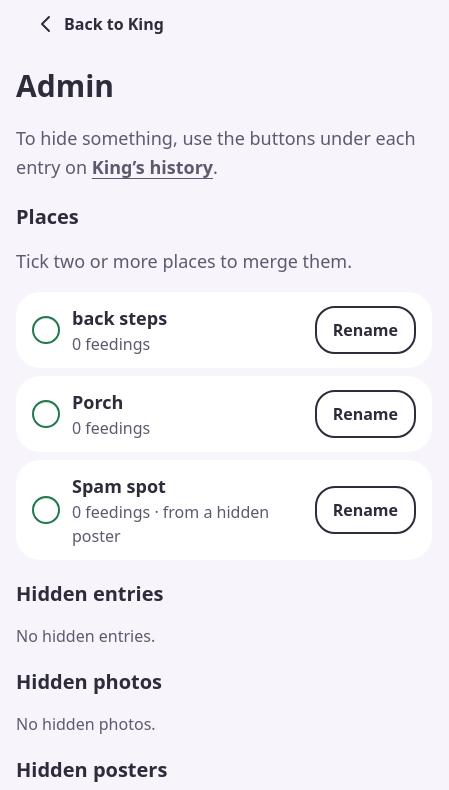
Scenario: AdminPage — renaming a place › cancels without saving and returns focus to the place
Click the button with aria-label "Rename Porch". click: (365, 414)
box: [315,390,416,438]
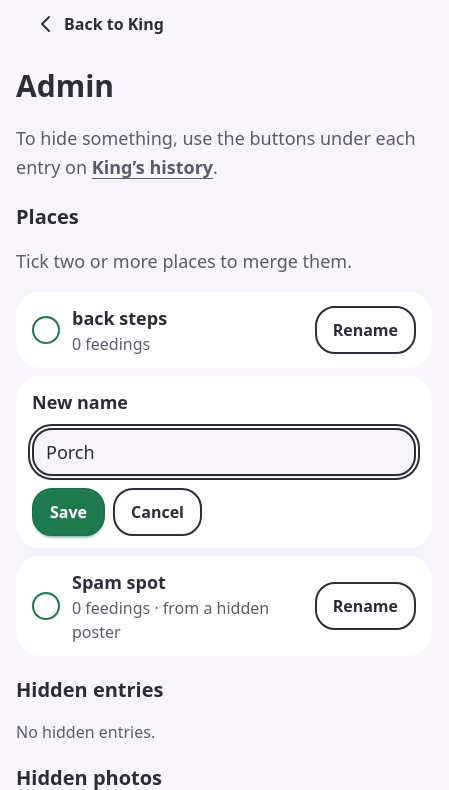
Type " changed" into the field labelled "New name". click: (224, 452)
box: [32,428,416,476]
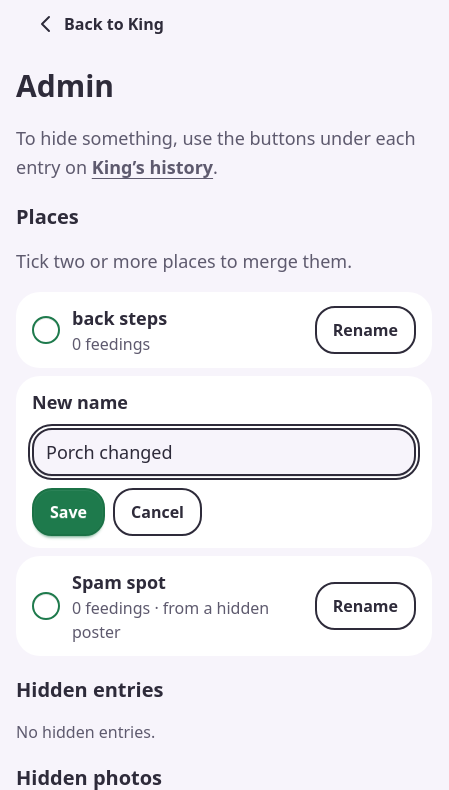
Click the button "Cancel". click: (157, 512)
box: [113,488,202,536]
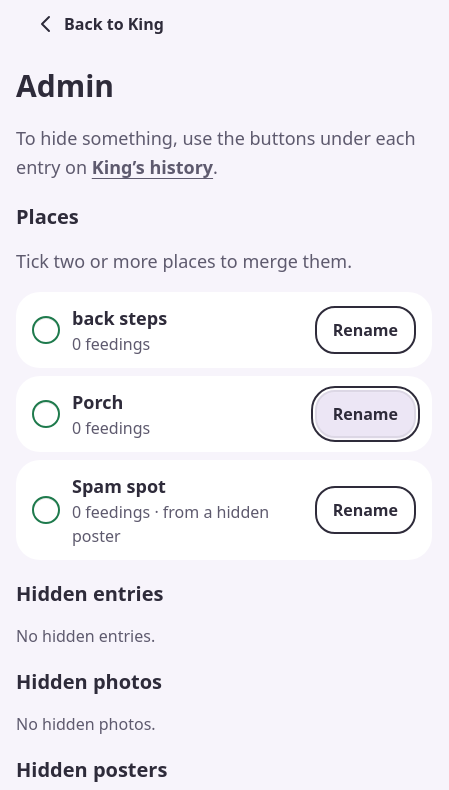
expect the label "New name" is gone: met
